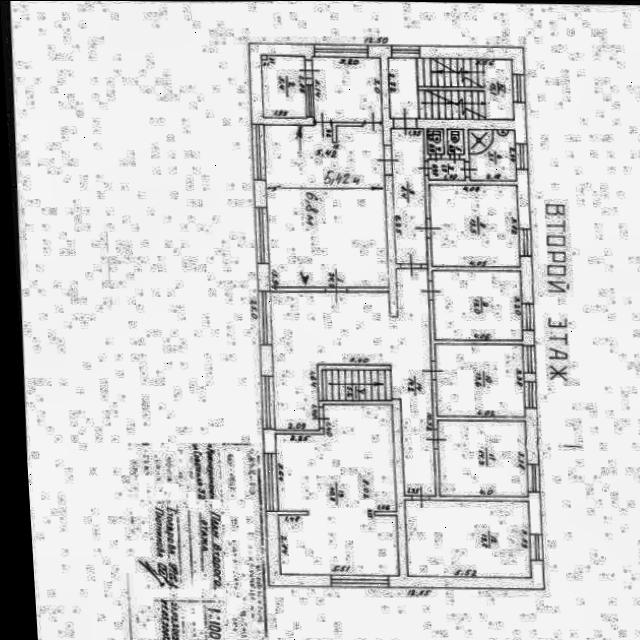room: (268, 265, 434, 500), (274, 400, 398, 578), (262, 118, 386, 290), (403, 498, 531, 576), (383, 56, 512, 118), (426, 182, 519, 265), (435, 418, 528, 495), (433, 342, 525, 414), (430, 268, 522, 338), (389, 125, 426, 264), (309, 56, 380, 121), (258, 52, 304, 117), (466, 126, 514, 179), (426, 157, 463, 178), (425, 126, 442, 152), (445, 127, 461, 152)
